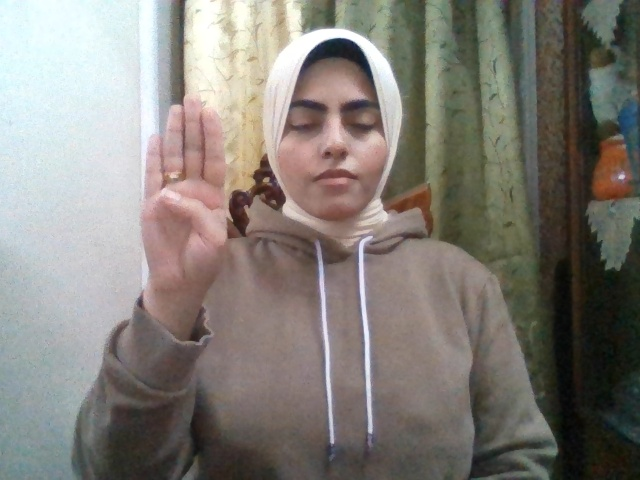B: (141, 91, 229, 306)
